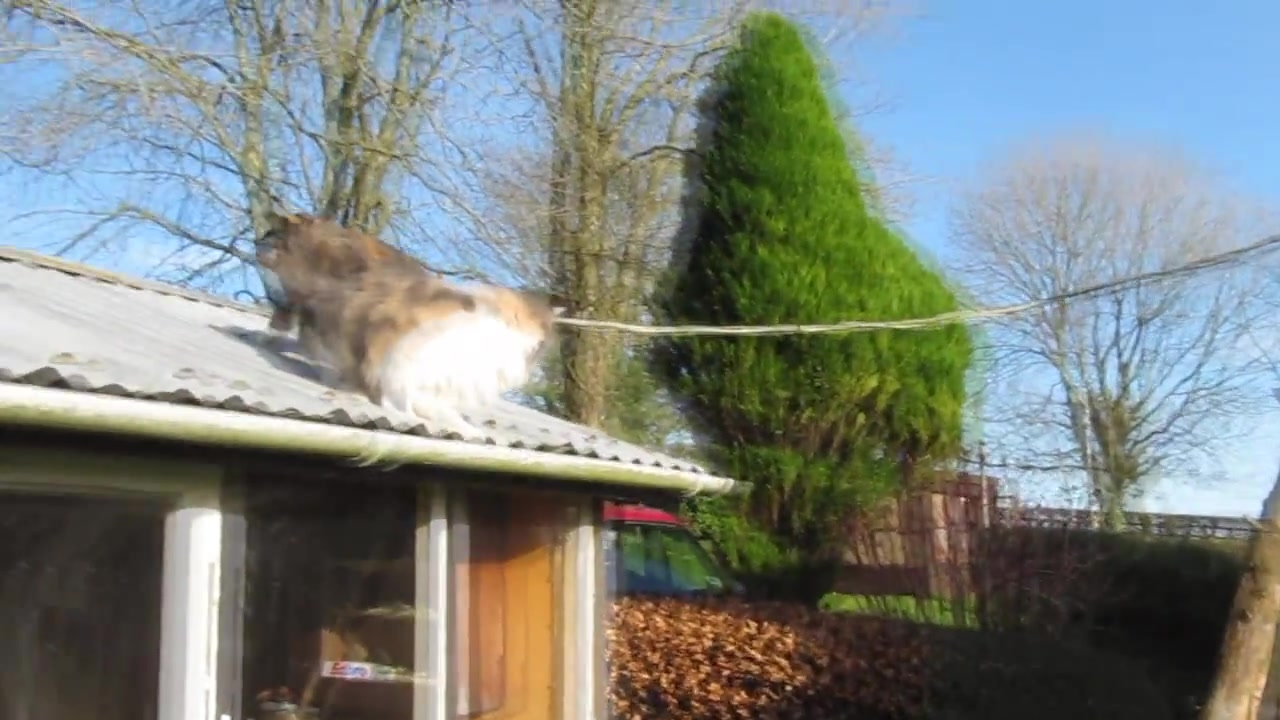cat: (250, 192, 560, 429)
